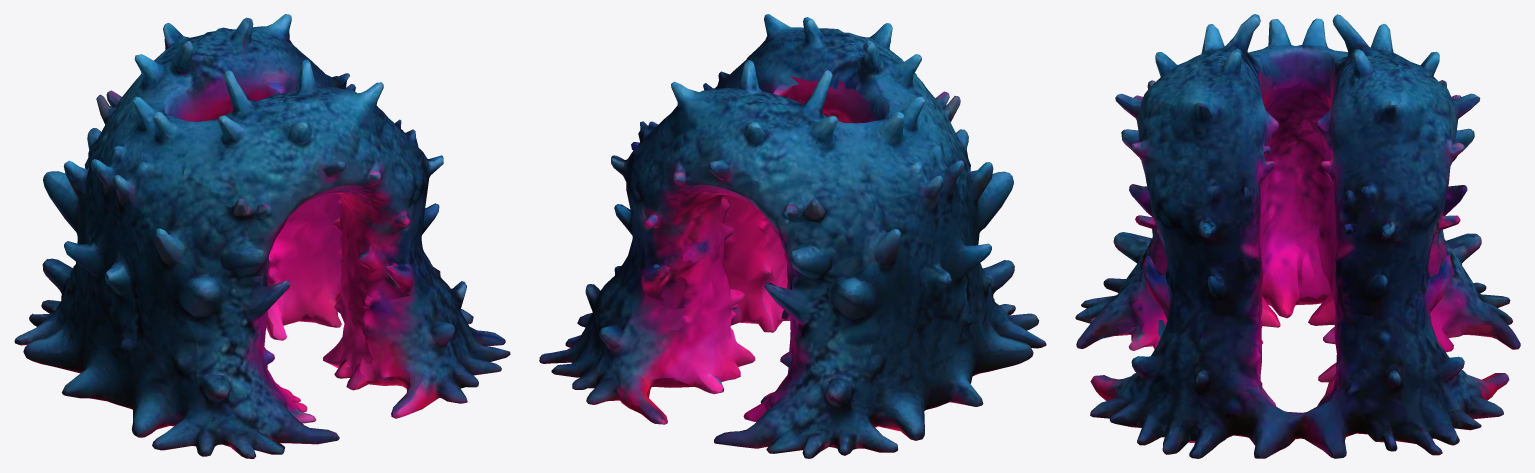
Rendered from tunnel-root-3-generated-2026-05-17T19-25-33-271Z.low.glb.
3 views of the same model, side by side, from view 1: azimuth 30°, elevation 25°; view 2: azimuth 150°, elevation 25°; view 3: azimuth 270°, elevation 25° (orthographic). The views are drawn at different scales.
Parts seen in each view (by area): view 1: temp_mesh.ply; view 2: temp_mesh.ply; view 3: temp_mesh.ply.
Boxes of the visible parts, x1,y1,x2,y2 form: temp_mesh.ply: (14,14,510,458); temp_mesh.ply: (539,14,1046,458); temp_mesh.ply: (1075,14,1520,458).
Bounding box in the file's own units: 1.97 × 1.53 × 1.91.
Materials: 1 (1 with a texture image).
